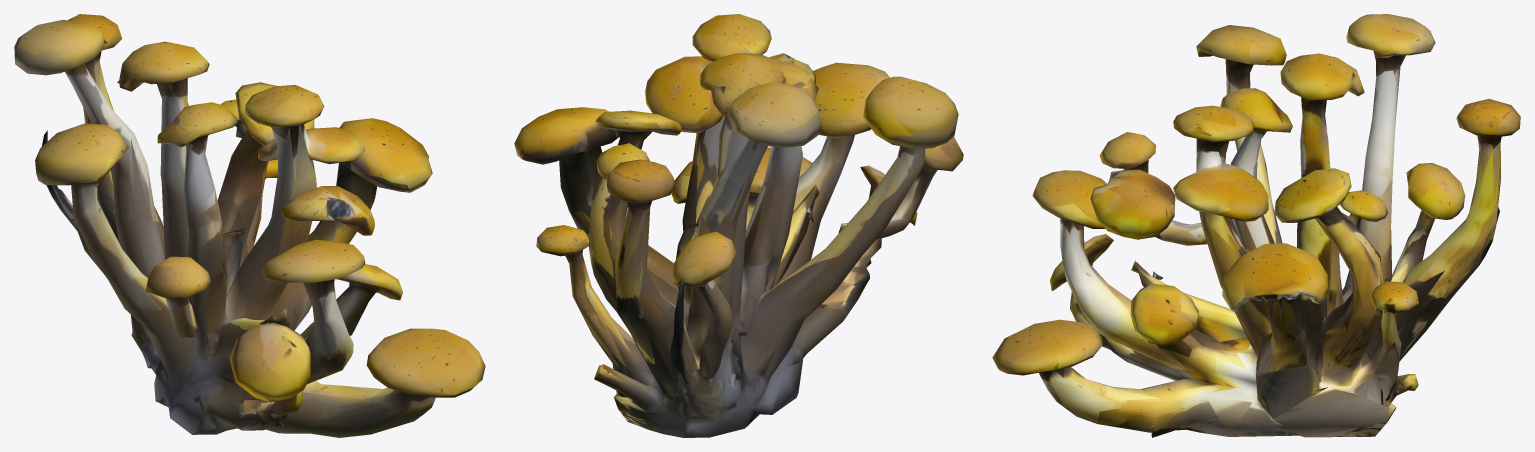
The model's file is mushroom1.fbx.
3 renders of one model, left to right at view 1: azimuth 30°, elevation 25°; view 2: azimuth 150°, elevation 25°; view 3: azimuth 270°, elevation 25°, orthographic. The views are drawn at different scales.
Visible parts, largest first — view 1: meshes[0]; view 2: meshes[0]; view 3: meshes[0].
Boxes of the visible parts, box(x1,y1,x2,y2) form: meshes[0]: box(14, 14, 485, 437); meshes[0]: box(514, 14, 963, 437); meshes[0]: box(992, 14, 1520, 437).
Size of the model in its own units: 82.49 by 73.49 by 100.
Materials: 1 (1 with a texture image).
